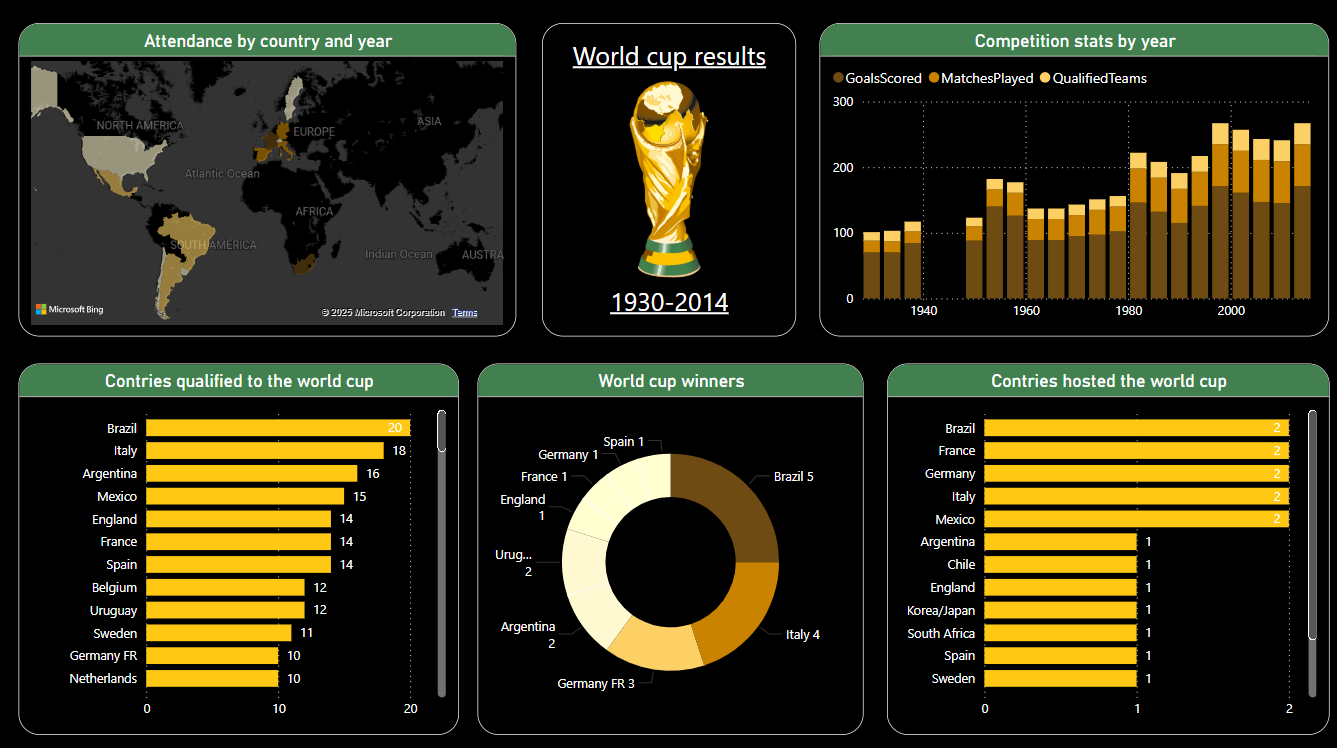

The dashboard page shown, as its layout file describes it:
{"tool":"powerbi","page":{"name":"Page 1","canvas":[1280,720],"ordinal":0},"visuals":[{"type":"image","box":[518.4,23,242.9,299.7],"z":0},{"type":"textbox","box":[535.3,31.4,209,43.5],"z":1000},{"type":"textbox","box":[570.3,267,140.2,45.9],"z":2000},{"type":"columnChart","title":"Competition stats by year","fields":{"Y":["Sum(WorldCups.GoalsScored)","Sum(WorldCups.MatchesPlayed)","Sum(WorldCups.QualifiedTeams)"],"Category":["WorldCups.Year"]},"box":[783,23,487,299.7],"z":3000},{"type":"donutChart","title":"World cup winners","fields":{"Category":["WorldCups.Winner"],"Y":["CountNonNull(WorldCups.Winner)"]},"box":[456.6,347.9,368.8,354.5],"z":4000},{"type":"barChart","title":"Contries hosted the world cup","fields":{"Category":["WorldCups.Country"],"Y":["CountNonNull(WorldCups.Country)"]},"box":[847.3,347.9,422.6,354.5],"z":4002},{"type":"barChart","title":"Contries qualified to the world cup","fields":{"Category":["World Cup - Tableau format.Team"],"Y":["Count(World Cup - Tableau format.Year)"]},"box":[18.7,347.9,420.4,354.5],"z":4003},{"type":"filledMap","title":"Attendance by country and year","fields":{"Category":["WorldCups.Country"],"Series":["WorldCups.Attendance"]},"box":[18.7,23,475.2,299.6],"z":4004}]}

Visuals, with their boxes in screenshot pixels (x1, y1, x2, y2), scaled from the page's 1280x720 canvas onto the 1337x748 screenshot:
image: bbox=[541, 24, 795, 335]
textbox: bbox=[559, 33, 777, 78]
textbox: bbox=[596, 277, 742, 325]
"Competition stats by year" columnChart: bbox=[818, 24, 1327, 335]
"World cup winners" donutChart: bbox=[477, 361, 862, 730]
"Contries hosted the world cup" barChart: bbox=[885, 361, 1326, 730]
"Contries qualified to the world cup" barChart: bbox=[20, 361, 459, 730]
"Attendance by country and year" filledMap: bbox=[20, 24, 516, 335]
